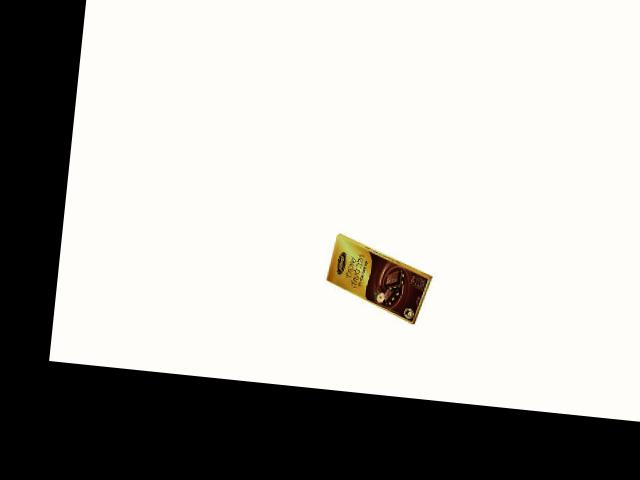chocolate: (322, 229, 445, 326)
